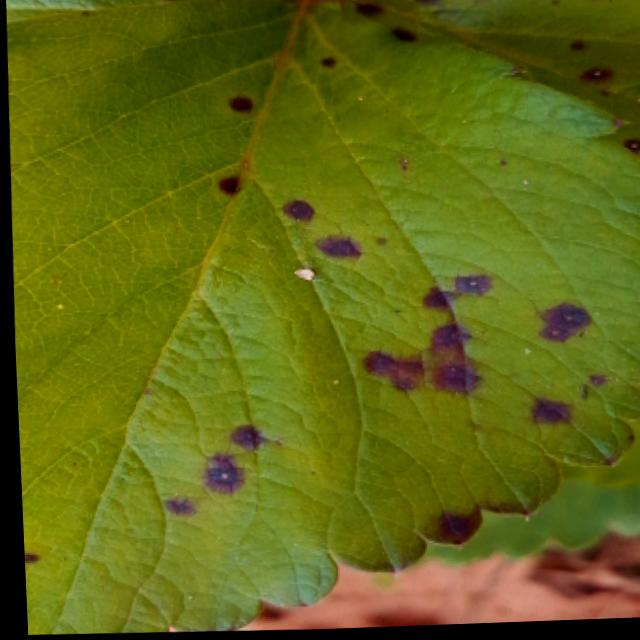Leaf Spot: (6, 0, 640, 634), (325, 0, 640, 162), (427, 427, 640, 572)
